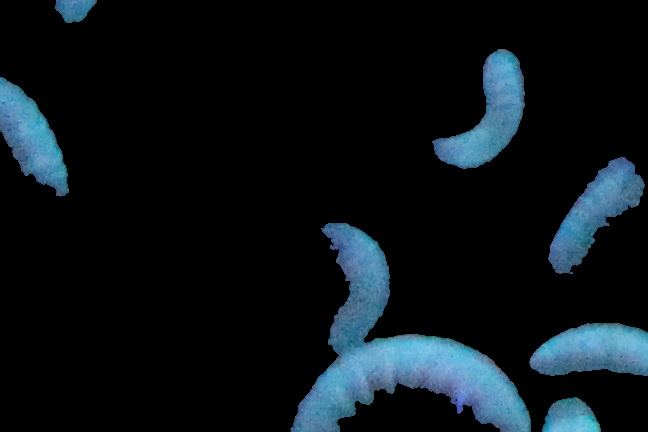larvae: (277, 336, 533, 432), (550, 142, 643, 284), (437, 44, 533, 165), (314, 220, 391, 361), (1, 73, 76, 201), (530, 316, 648, 386)
